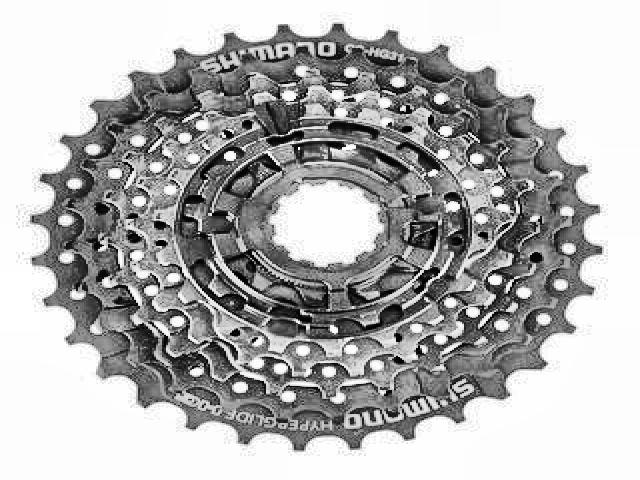cassette: (25, 16, 606, 450)
